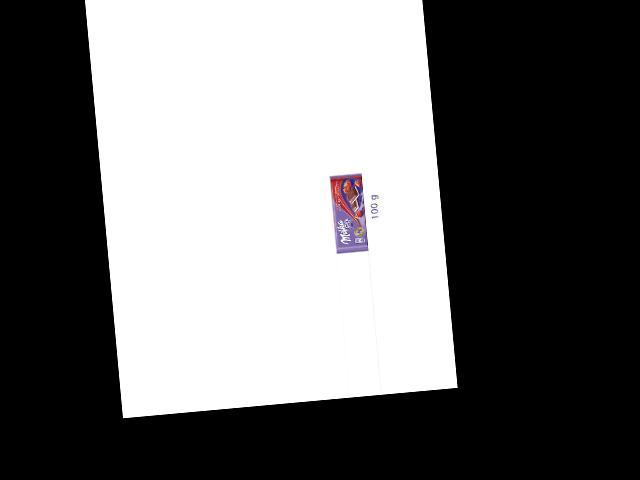chocolate: (329, 172, 372, 253)
